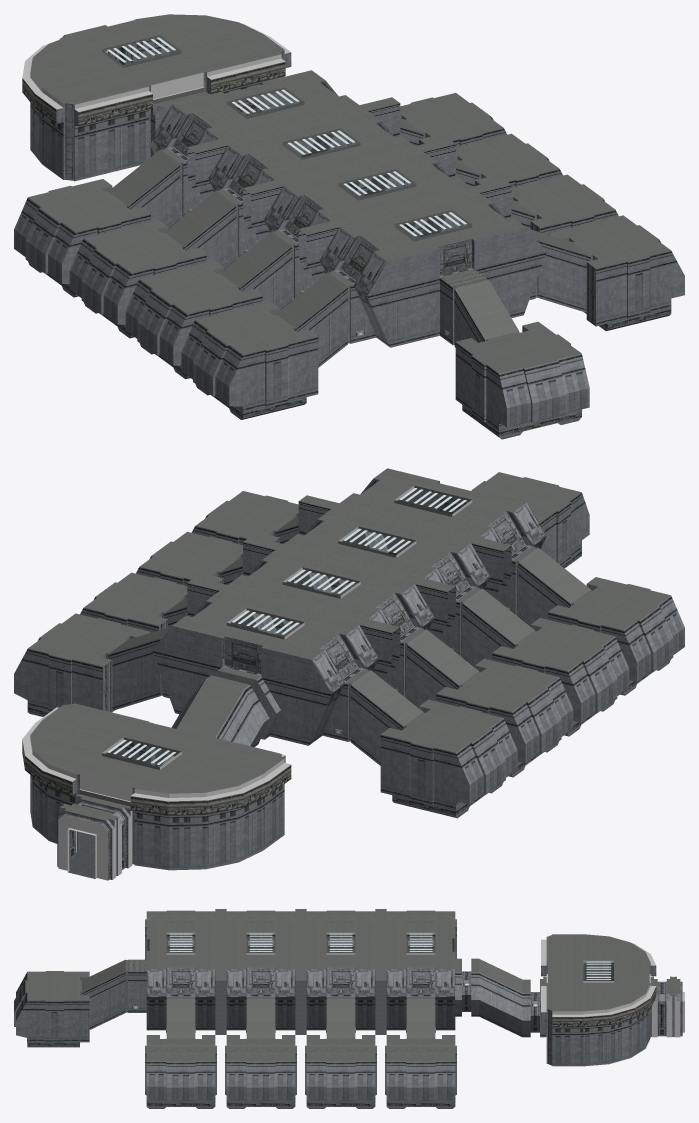
The model's file is poi_all_impl_bunker_imperial_prison_s01_r11_cellblock_c_mesh_r11.fbx.
The picture shows the model from 3 angles, top to bottom: view 1: azimuth 30°, elevation 25°; view 2: azimuth 150°, elevation 25°; view 3: azimuth 270°, elevation 25°; orthographic projection. The views are drawn at different scales.
Parts seen in each view (by area): view 1: mesh_node; view 2: mesh_node; view 3: mesh_node.
Boxes of the visible parts, left/top/right/bottom form: mesh_node: left=14, top=14, right=684, bottom=439; mesh_node: left=14, top=468, right=684, bottom=880; mesh_node: left=14, top=909, right=684, bottom=1108.
Size of the model in its own units: 33.33 by 8.81 by 58.71.
